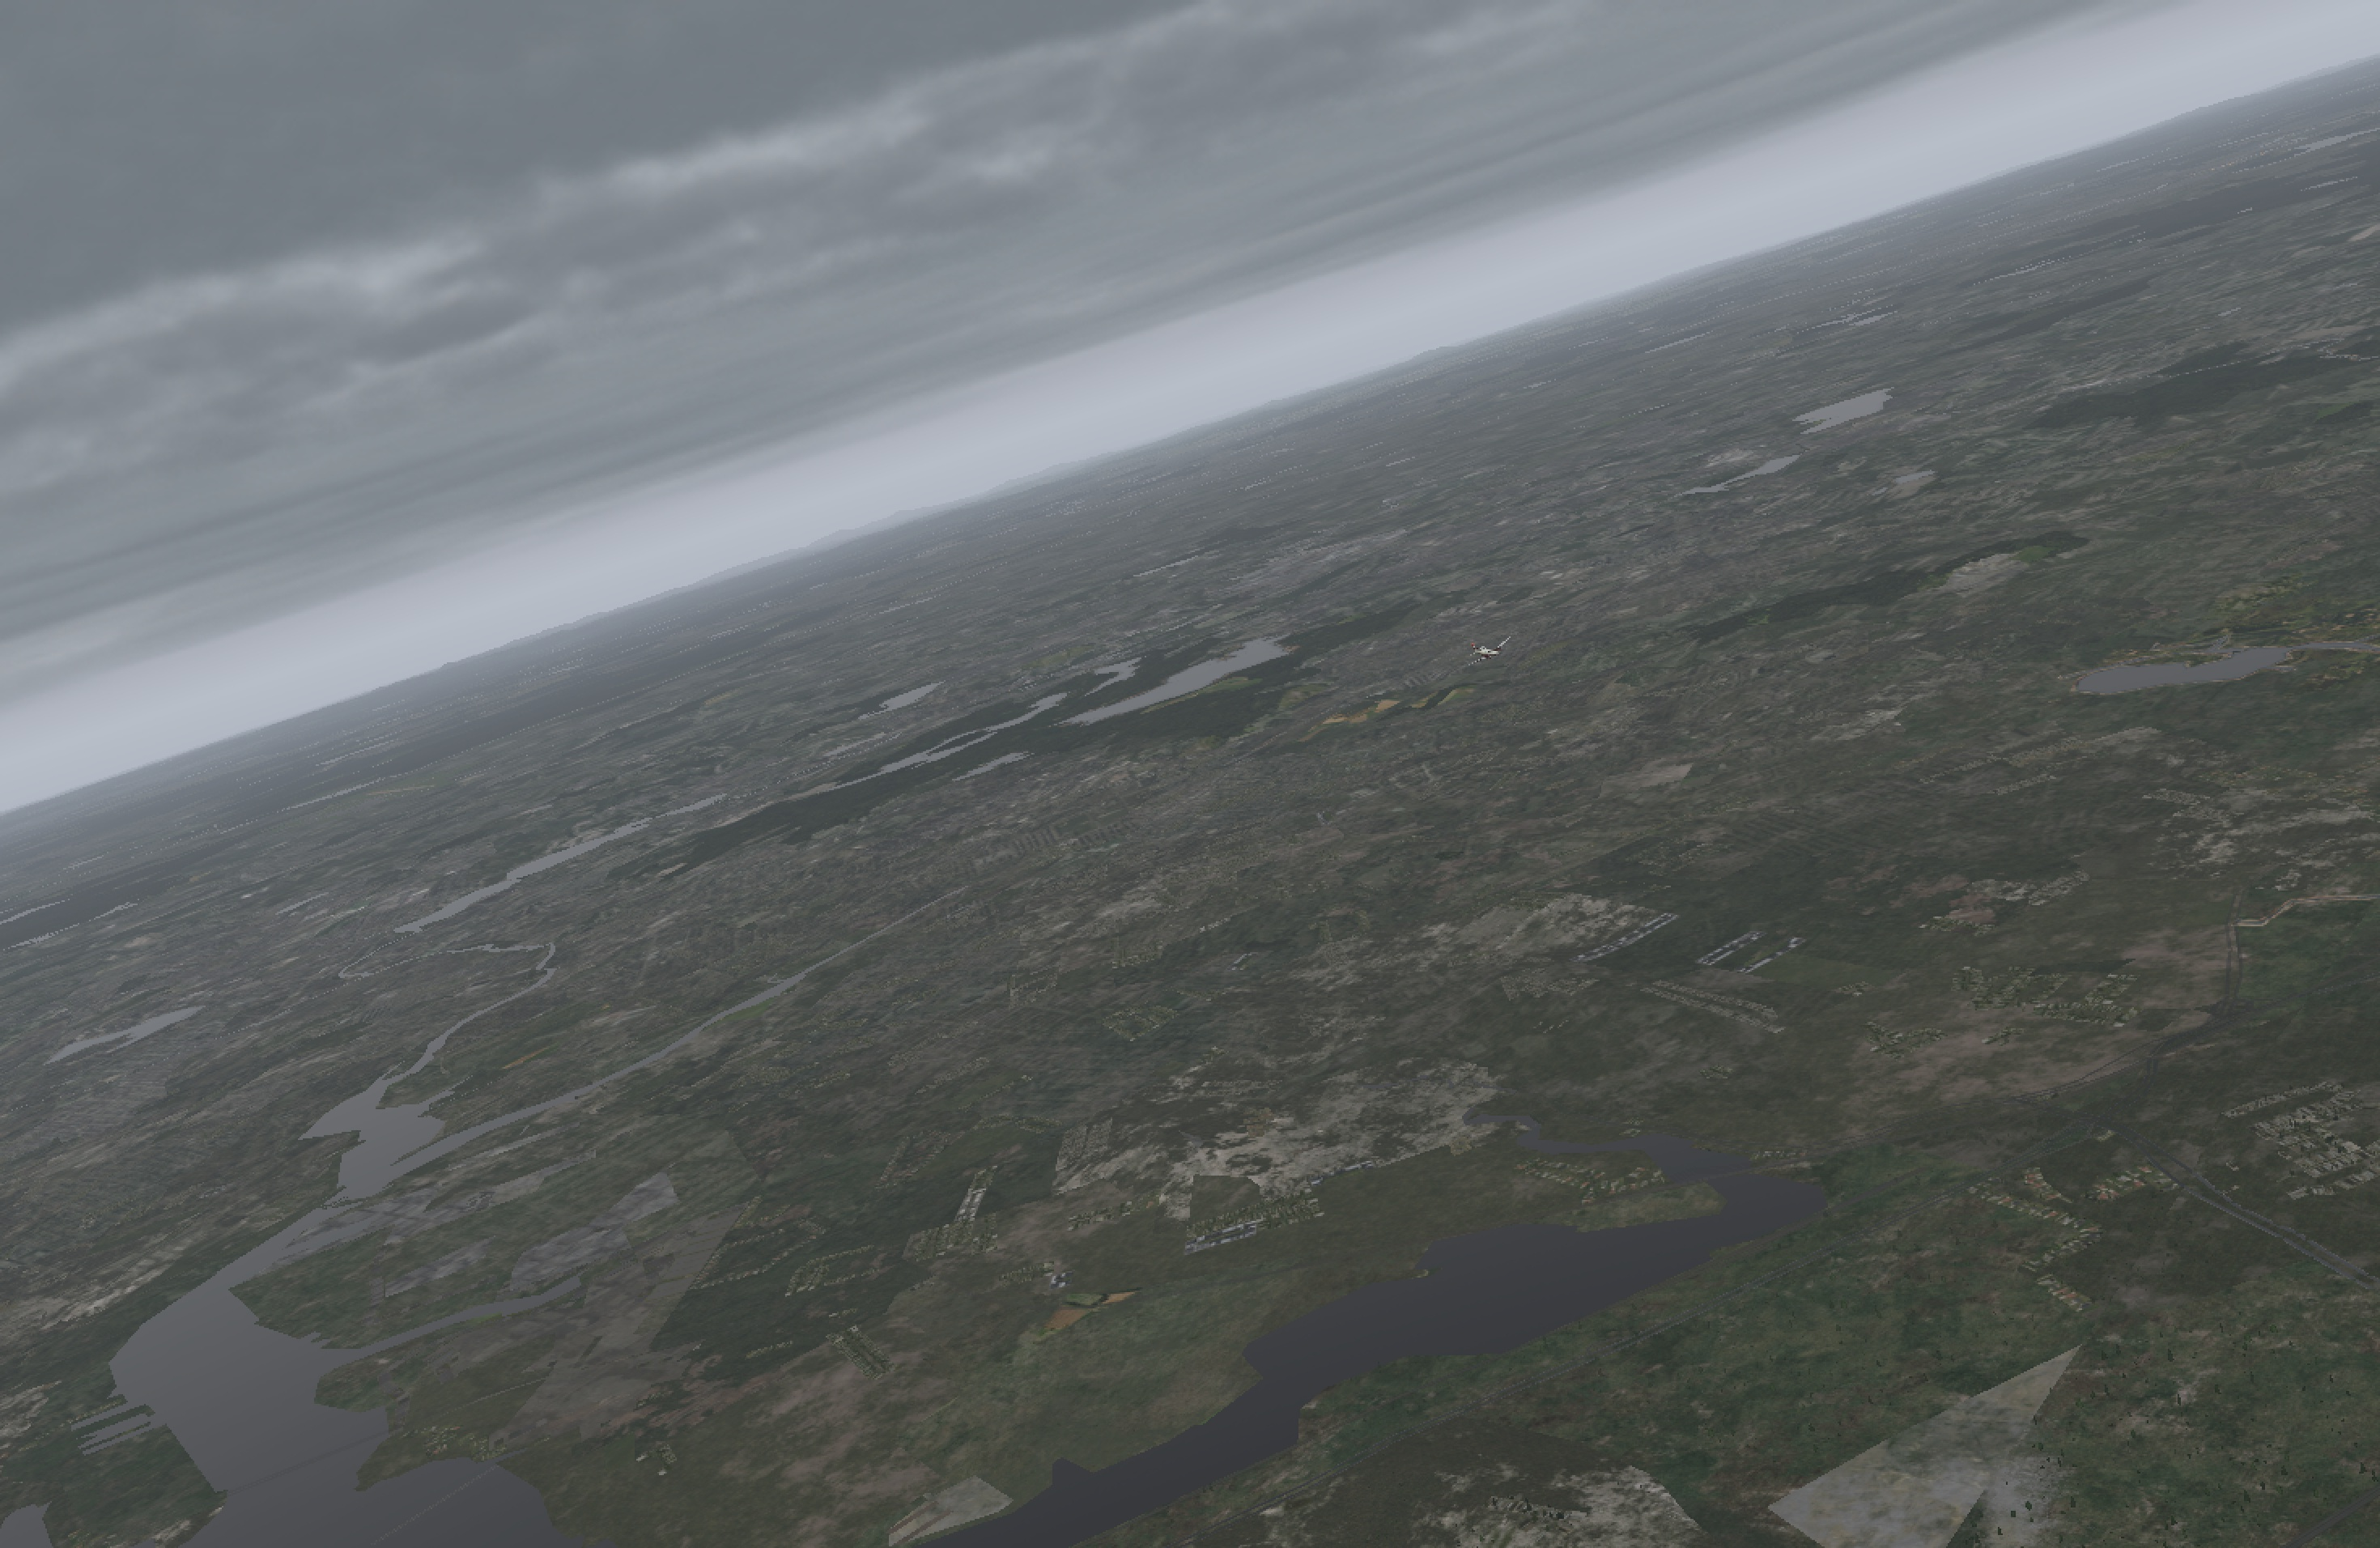aircraft: (1462, 644, 1521, 665)
